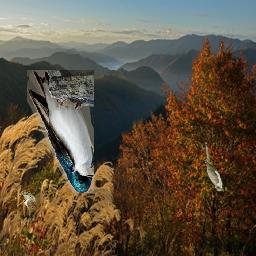Cuckoo: (204, 142, 224, 193), (19, 193, 37, 222)
Swallow: (28, 71, 95, 194)
